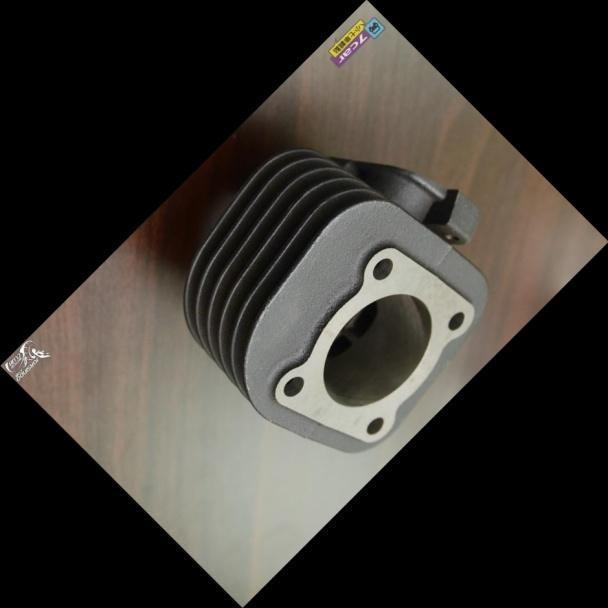hole: (273, 367, 309, 403), (365, 249, 400, 286)
